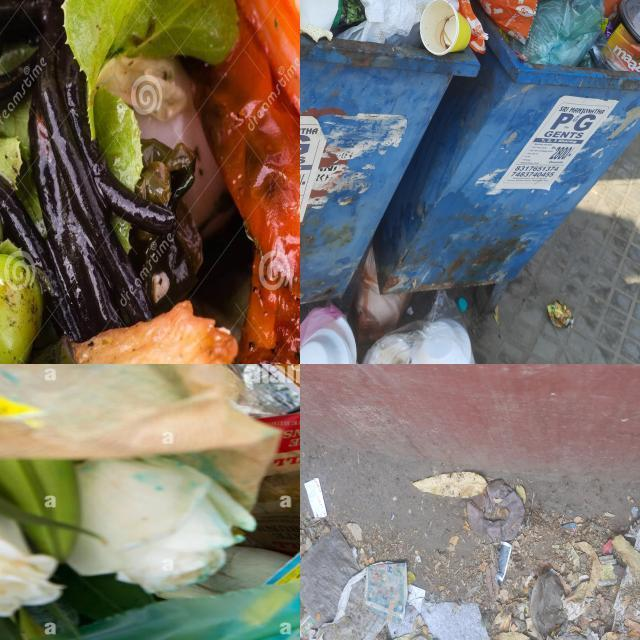Background: (300, 445, 640, 640)
Disposable: (363, 290, 475, 364), (355, 248, 412, 343), (300, 306, 356, 364)
Garbage: (0, 364, 300, 640), (300, 0, 640, 76), (300, 248, 486, 364)
Plastic: (620, 0, 640, 42), (457, 297, 468, 311)
Plastic_Bag: (300, 530, 385, 640), (511, 0, 604, 66), (342, 0, 437, 46), (530, 571, 567, 636), (588, 34, 628, 71)
Plastic_wraper: (364, 562, 408, 624), (331, 0, 366, 28), (547, 301, 574, 329), (495, 541, 512, 583), (597, 555, 617, 587), (300, 615, 315, 640), (603, 18, 614, 39)
Tetrapack: (607, 25, 640, 73)
